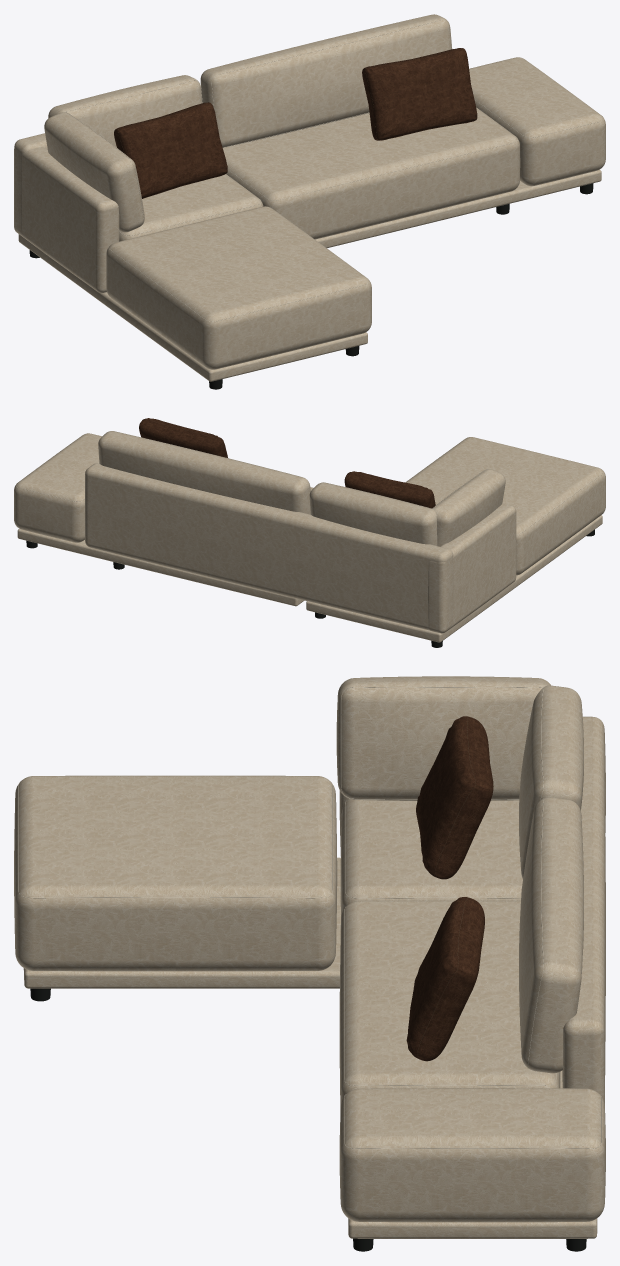
File: chaise.glb
3 renders of one model, top to bottom at view 1: azimuth 30°, elevation 25°; view 2: azimuth 150°, elevation 25°; view 3: azimuth 270°, elevation 25°, orthographic. The views are drawn at different scales.
Visible parts, largest first — view 1: fabric (×2), accent, legs; view 2: fabric (×2), accent, legs; view 3: fabric (×2), accent, legs.
Part boxes in pixels (x1,y1,x2,y2): fabric (×2): (14, 14, 605, 381); accent: (114, 48, 477, 198); legs: (29, 183, 593, 389); fabric (×2): (14, 431, 605, 642); accent: (139, 418, 435, 508); legs: (26, 529, 594, 647); fabric (×2): (14, 676, 605, 1238); accent: (406, 716, 493, 1061); legs: (30, 988, 586, 1251).
Size of the model in its own units: 3 by 0.84 by 2.
5 materials, 2 textured.
